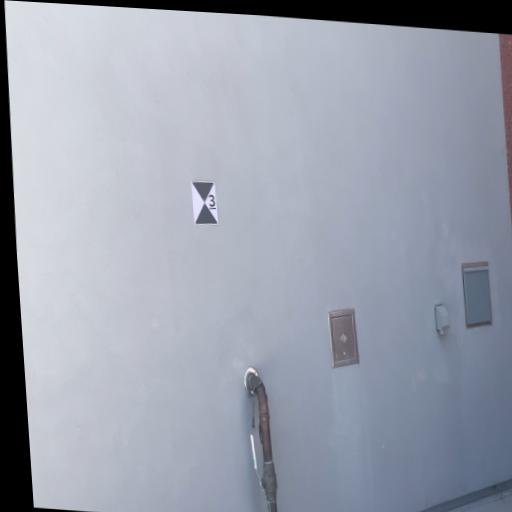target3: (191, 181, 219, 226)
